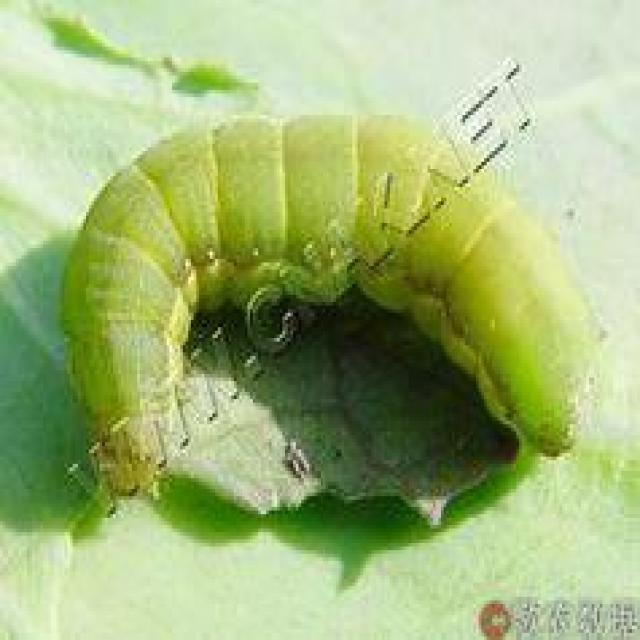BeetArmyWorm-Larva-: (54, 99, 601, 502)
